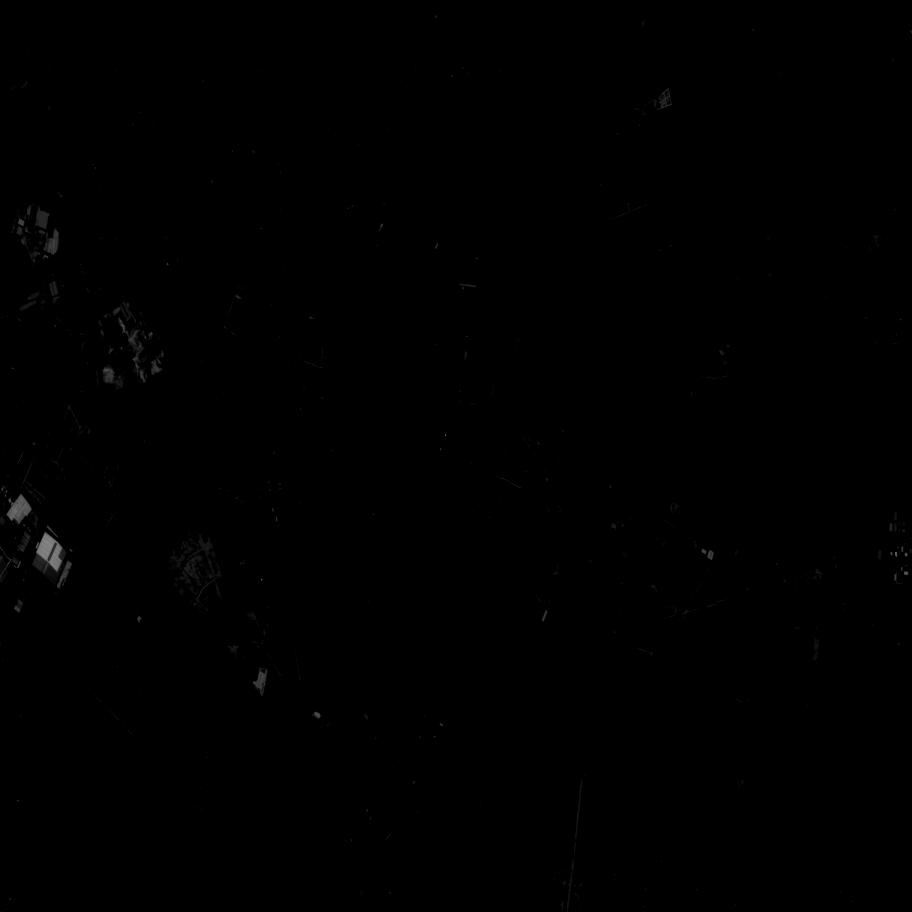storage-tank: (889, 551, 894, 557), (889, 541, 893, 545), (896, 552, 898, 557), (908, 537, 910, 541), (897, 544, 899, 547)
